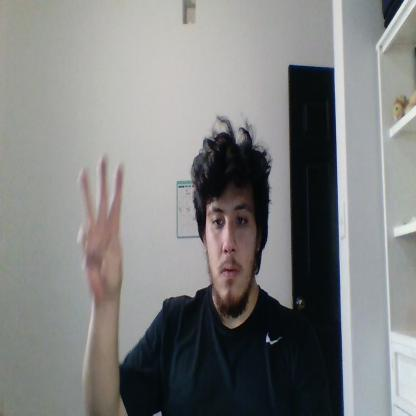W: (77, 155, 123, 296)
